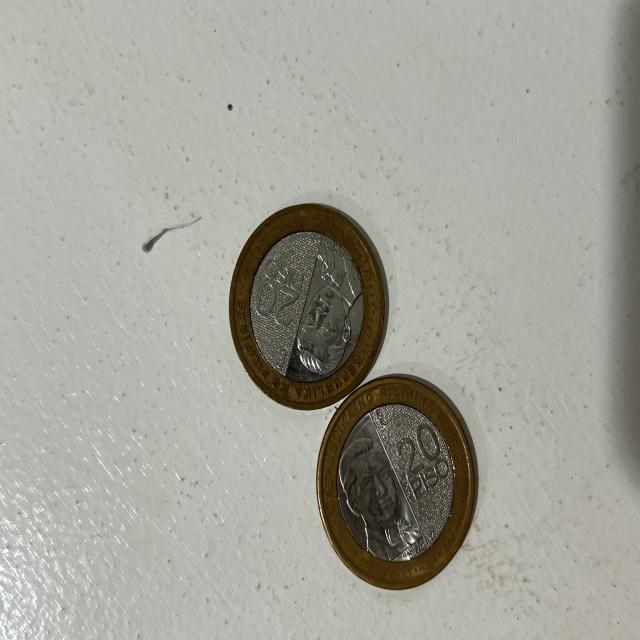20_New_Front: (395, 425, 440, 473), (257, 278, 299, 327)
